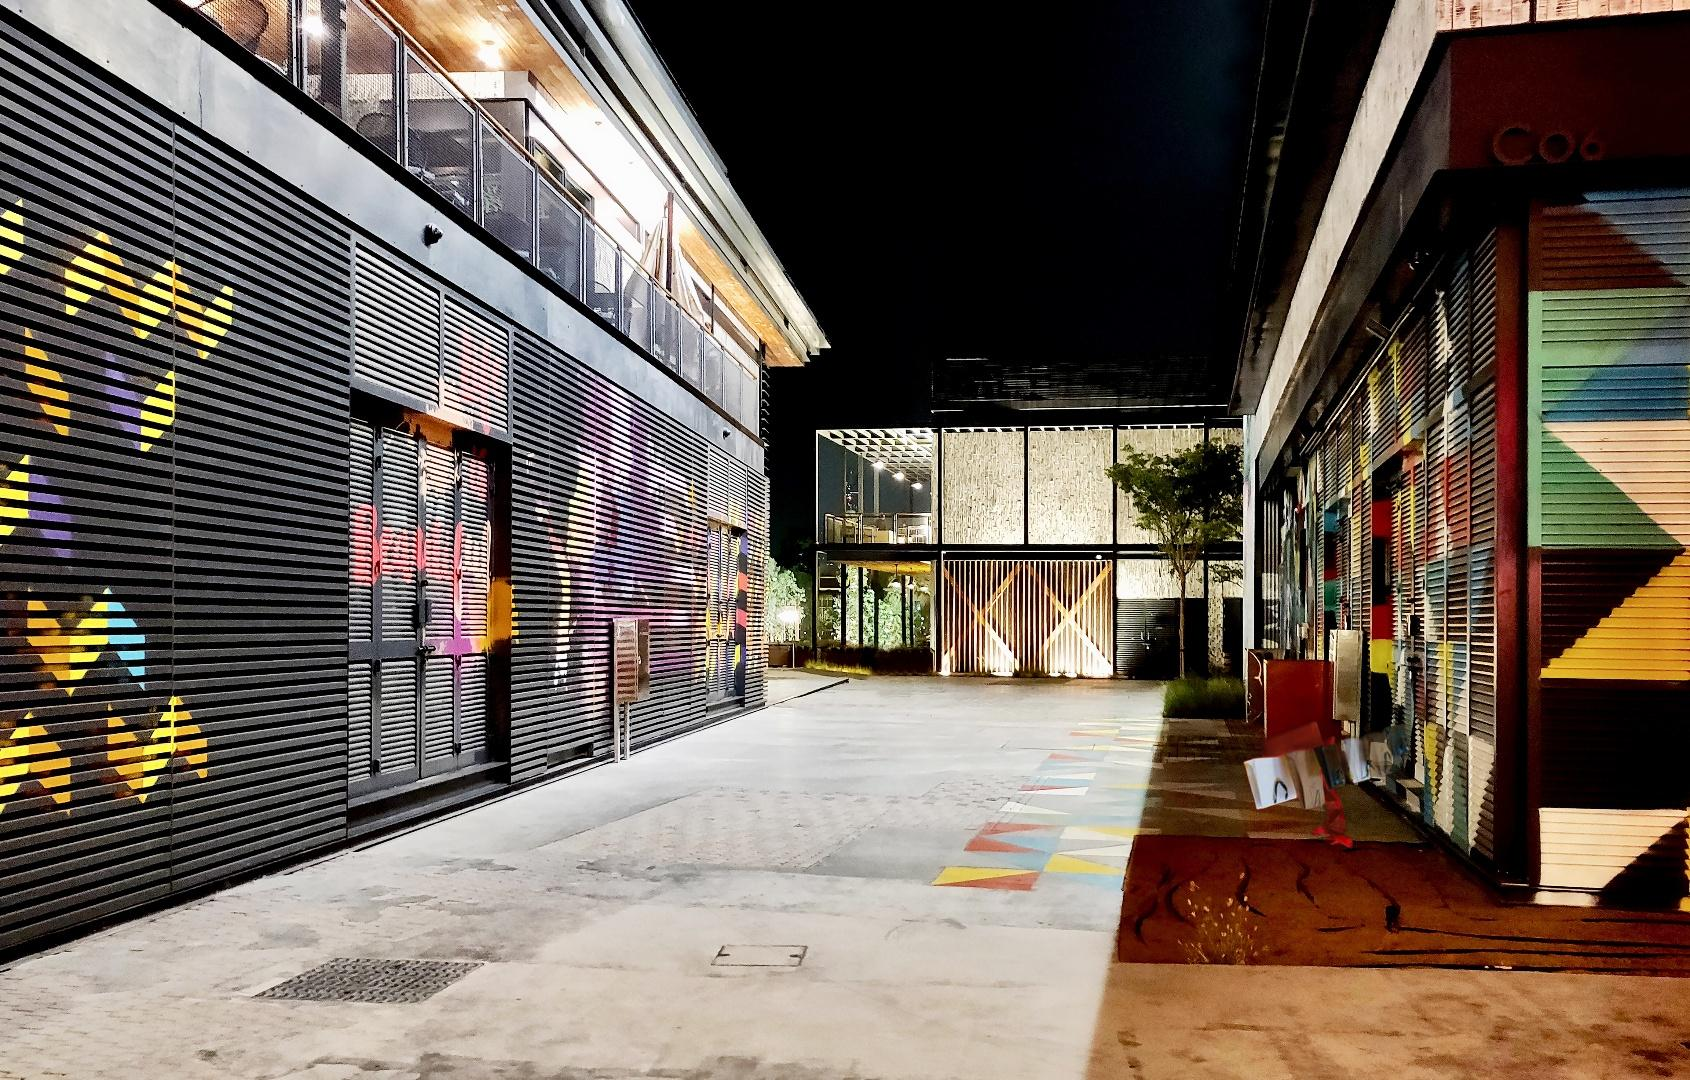paper-bag: (1229, 718, 1414, 881)
